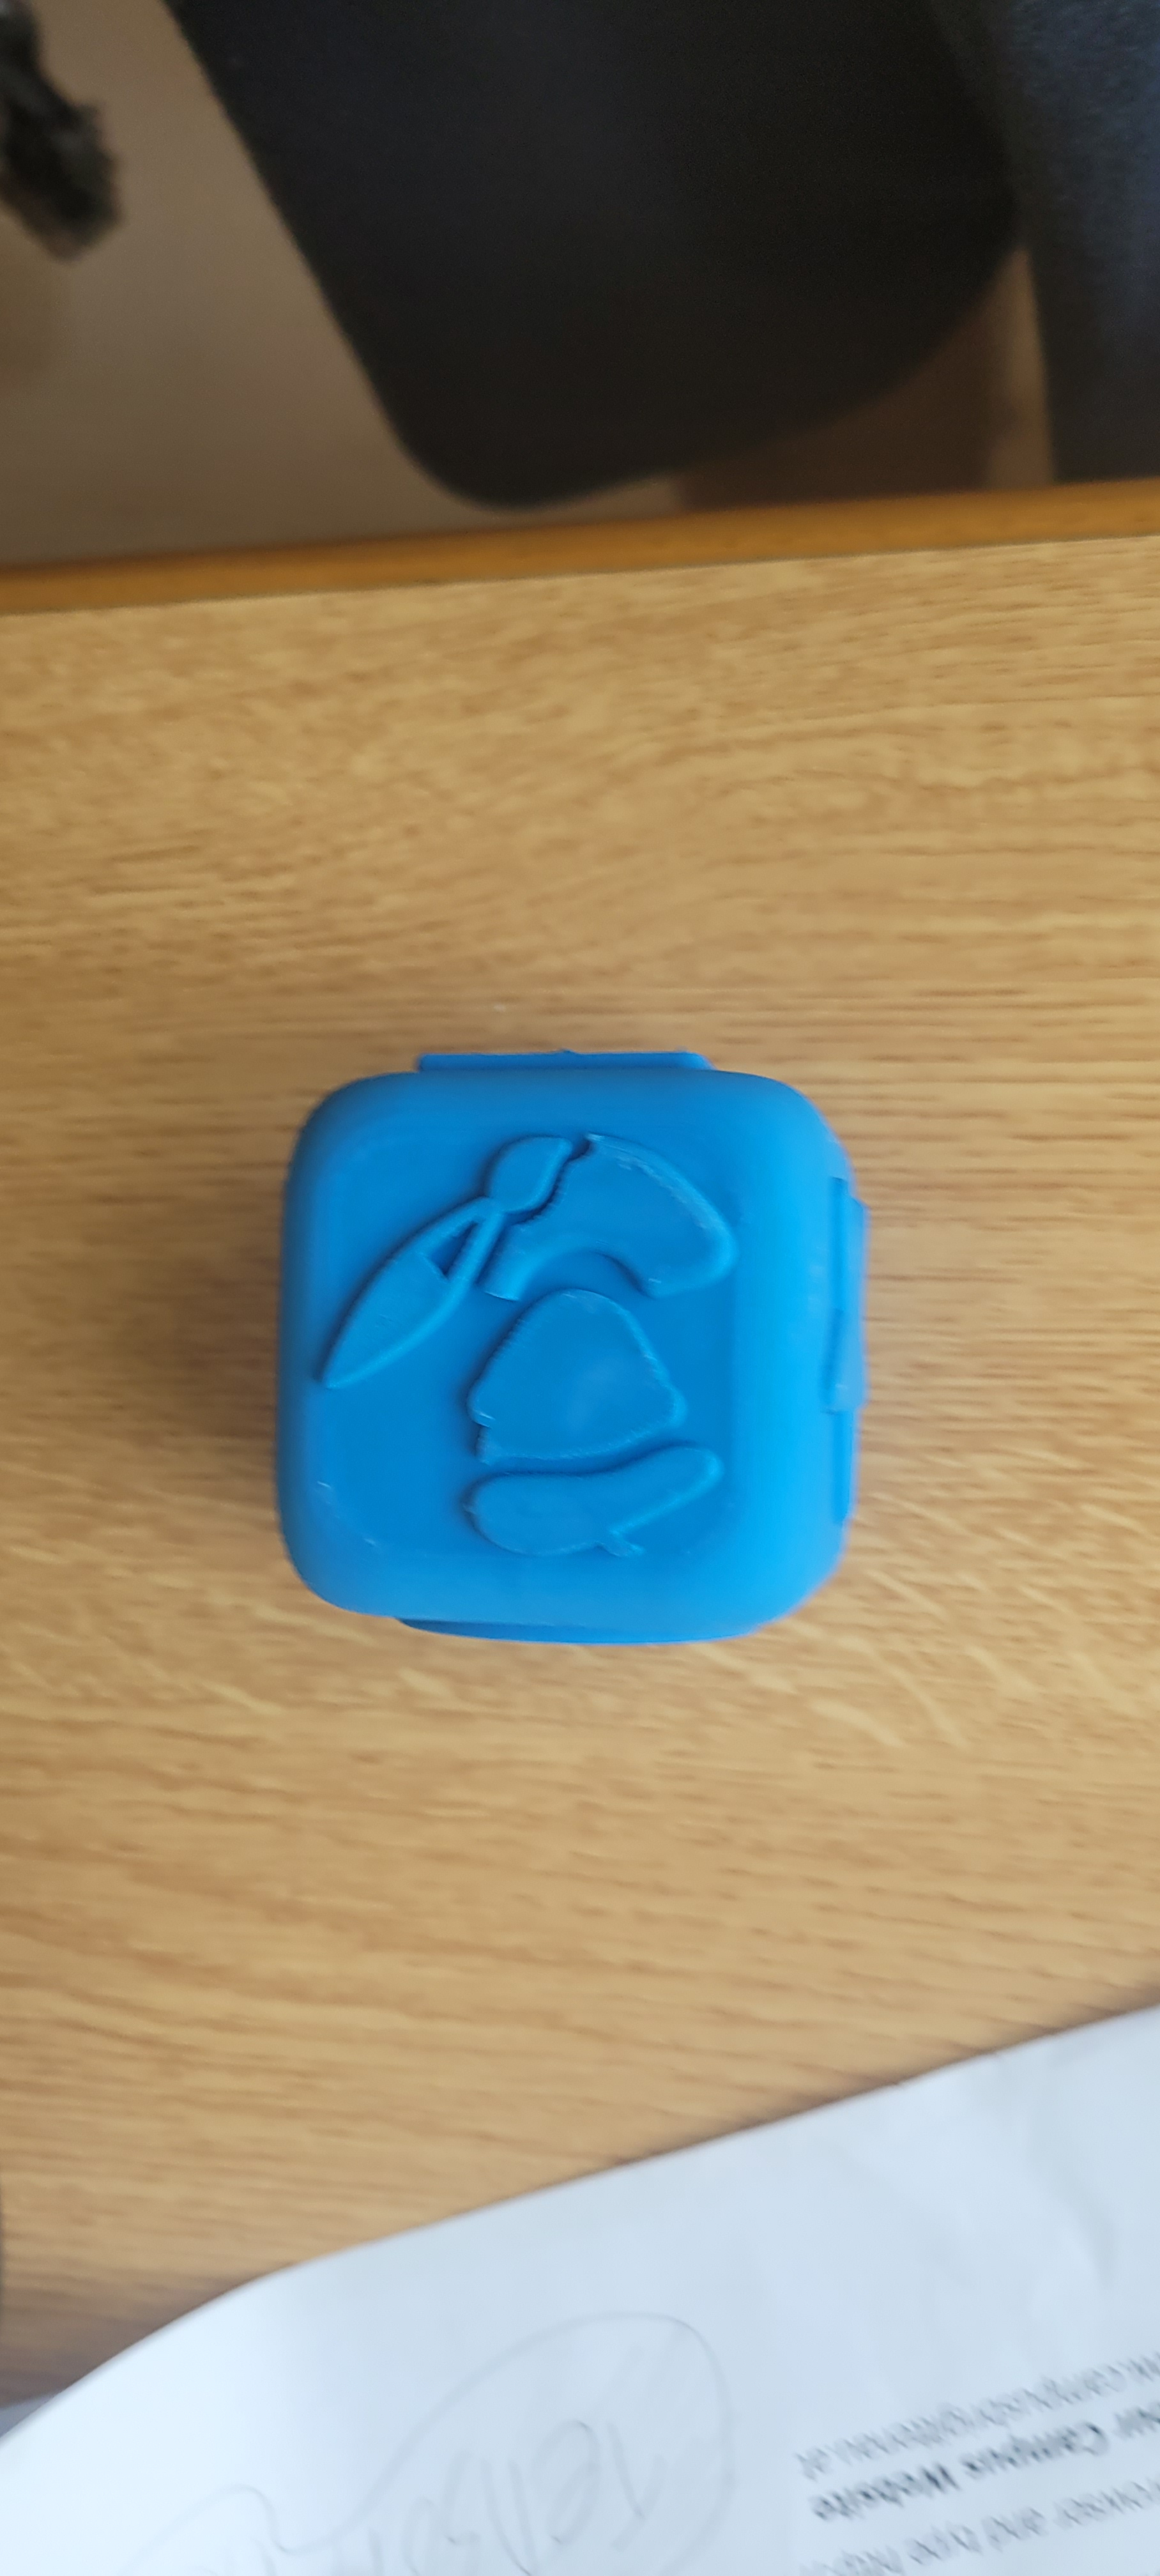Artist_Info: (288, 1014, 815, 1630)
